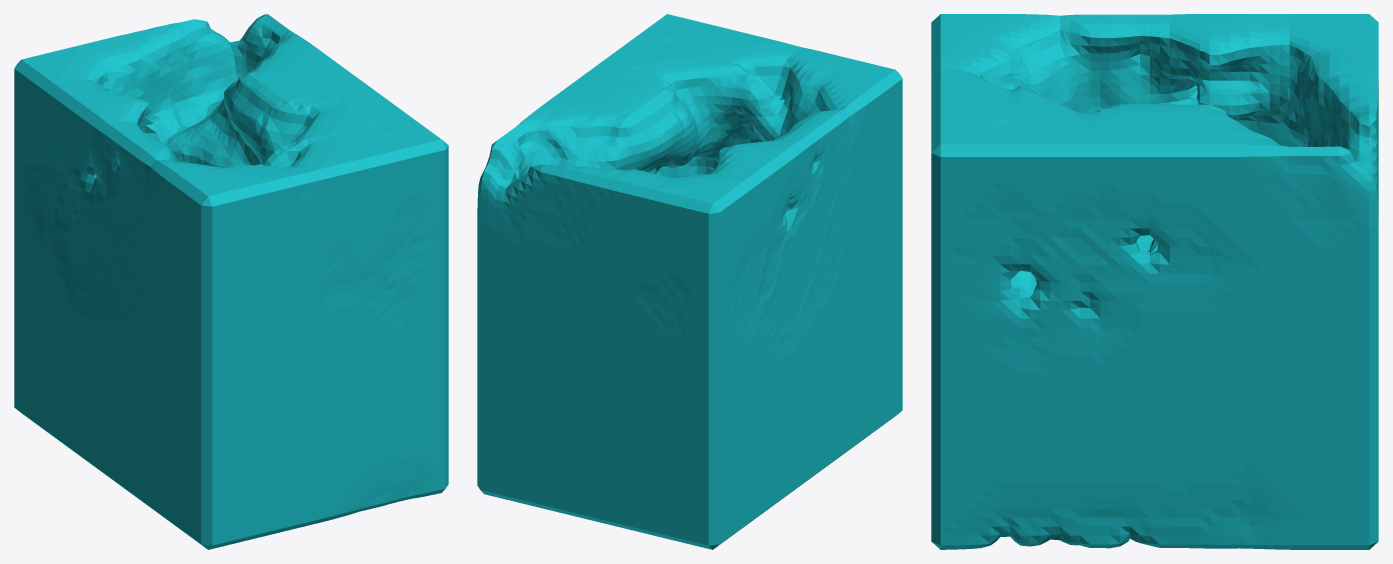
The picture shows the model from 3 angles, left to right: view 1: azimuth 30°, elevation 25°; view 2: azimuth 150°, elevation 25°; view 3: azimuth 270°, elevation 25°; orthographic projection. The views are drawn at different scales.
Visible parts, largest first — view 1: Liquid_Domain; view 2: Liquid_Domain; view 3: Liquid_Domain.
Part boxes in pixels (x1,y1,x2,y2): Liquid_Domain: (14, 14, 448, 549); Liquid_Domain: (477, 14, 902, 549); Liquid_Domain: (931, 14, 1378, 549).
Size of the model in its own units: 79.09 by 108 by 108.
